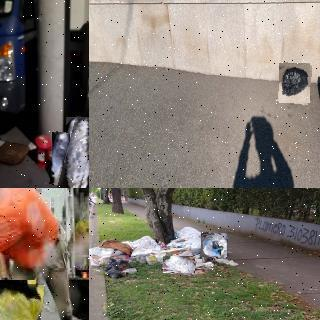Garbage: (61, 116, 89, 188), (278, 63, 311, 104), (50, 132, 69, 185), (163, 254, 196, 275), (105, 258, 138, 279), (201, 233, 228, 258)
